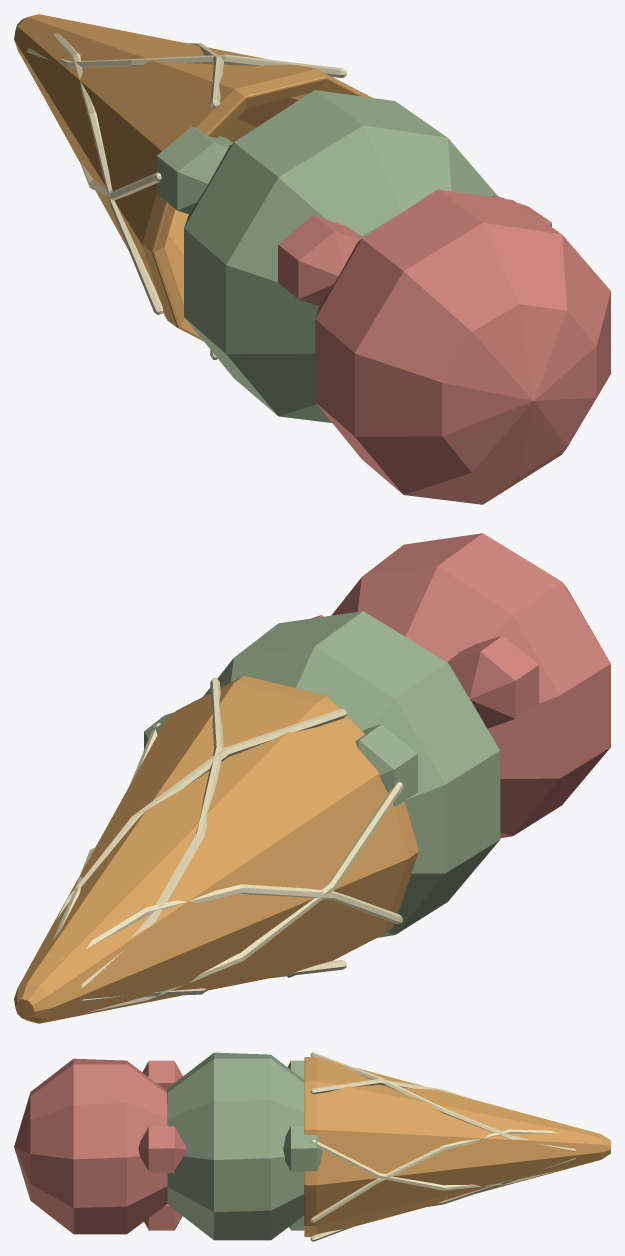
Rendered from ice_cream_cone.glb.
3 renders of one model, top to bottom at view 1: azimuth 30°, elevation 25°; view 2: azimuth 150°, elevation 25°; view 3: azimuth 270°, elevation 25°, orthographic. The views are drawn at different scales.
Parts seen in each view (by area): view 1: ice_cream_cone; view 2: ice_cream_cone; view 3: ice_cream_cone.
Part boxes in pixels (left/top/right/bottom): ice_cream_cone: left=14, top=14, right=610, bottom=504; ice_cream_cone: left=14, top=533, right=610, bottom=1023; ice_cream_cone: left=14, top=1052, right=610, bottom=1241.
Size of the model in its own units: 0.0574 by 0.0604 by 0.1847.
